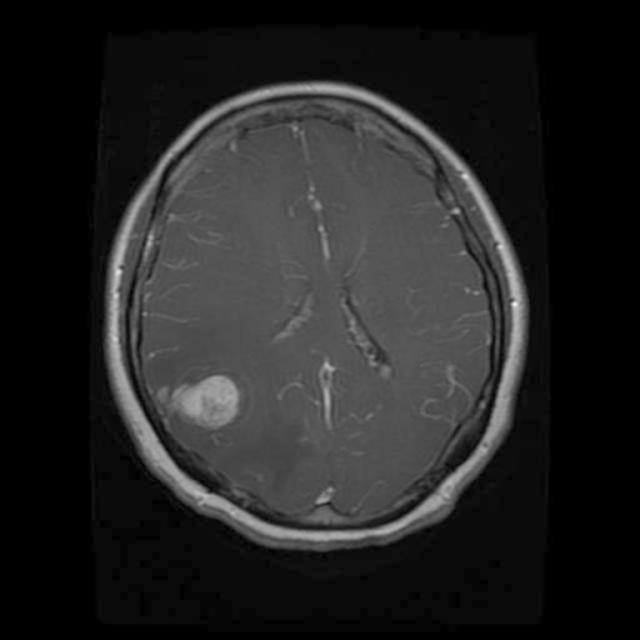pituitary tumor: (169, 372, 245, 432)
